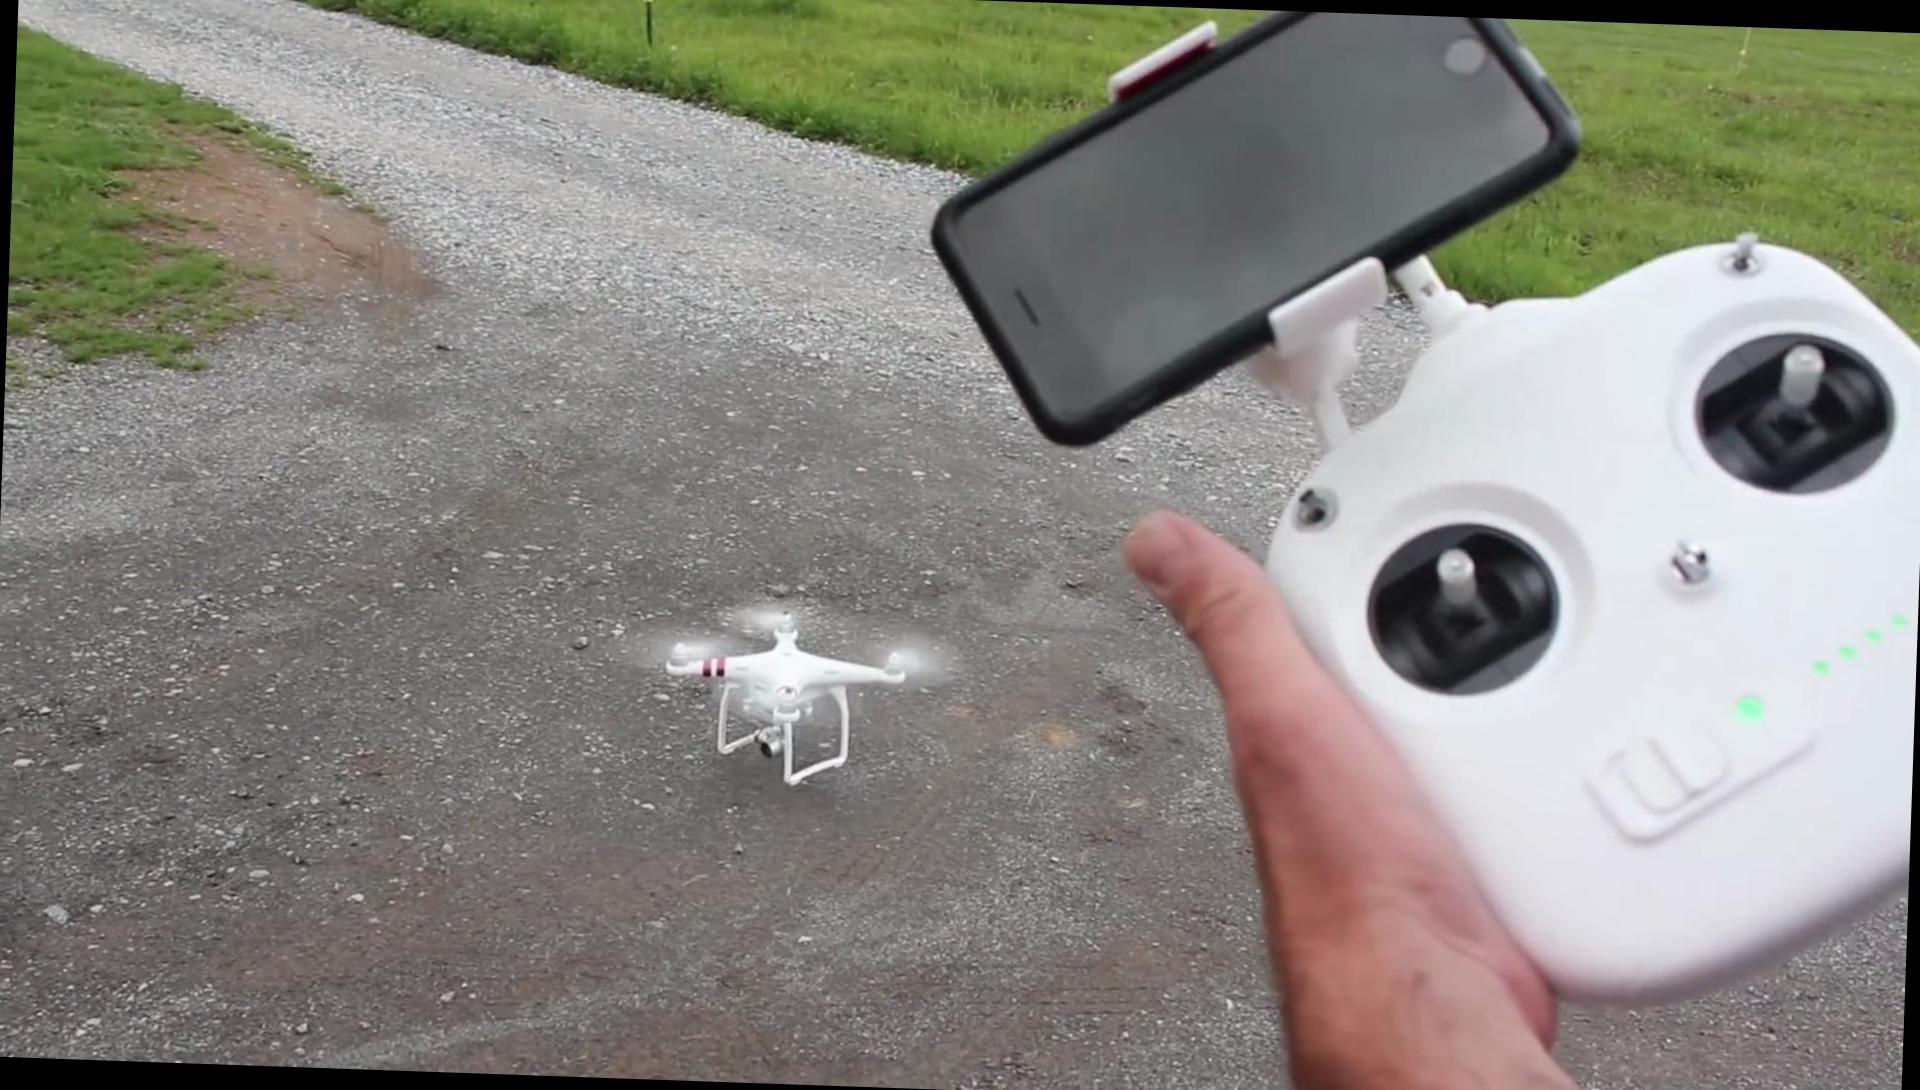drone: (654, 594, 919, 793)
